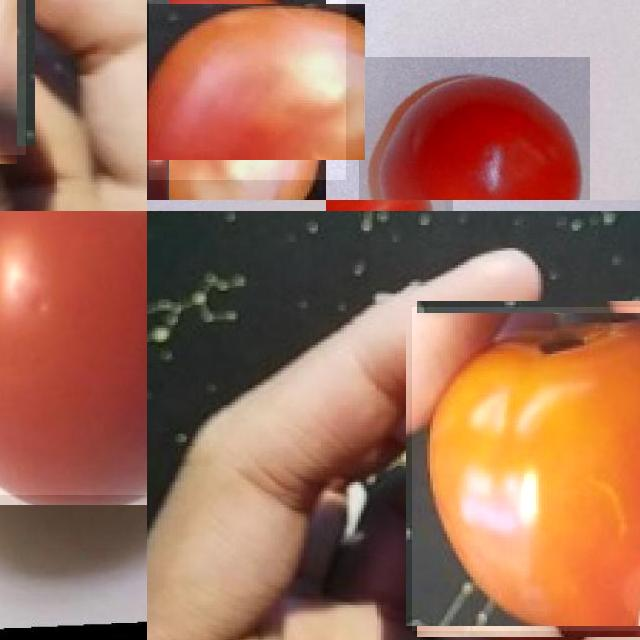0: (0, 211, 147, 494)
Fresh Tomato: (411, 306, 640, 631), (359, 57, 589, 200)
Rotten Tomato: (149, 0, 345, 180)
